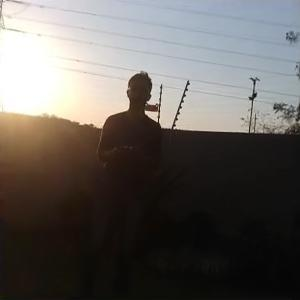follow: (88, 69, 162, 299)
